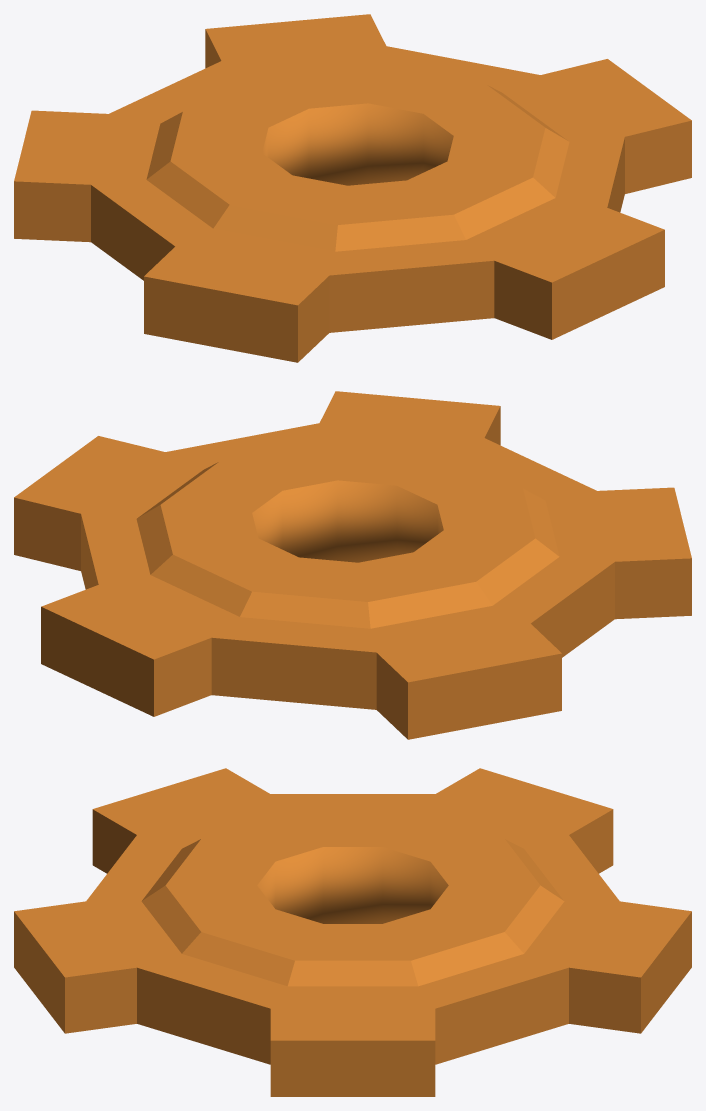
File: mesh_Gear.fbx
The picture shows the model from 3 angles, top to bottom: view 1: azimuth 30°, elevation 25°; view 2: azimuth 150°, elevation 25°; view 3: azimuth 270°, elevation 25°; orthographic projection. The views are drawn at different scales.
Visible parts, largest first — view 1: Gear; view 2: Gear; view 3: Gear.
Part boxes in pixels (bbox=[...]): Gear: bbox=[14, 14, 691, 362]; Gear: bbox=[14, 391, 691, 739]; Gear: bbox=[14, 768, 691, 1096].
Bounding box in the file's own units: 1.98 × 0.2985 × 2.08.
